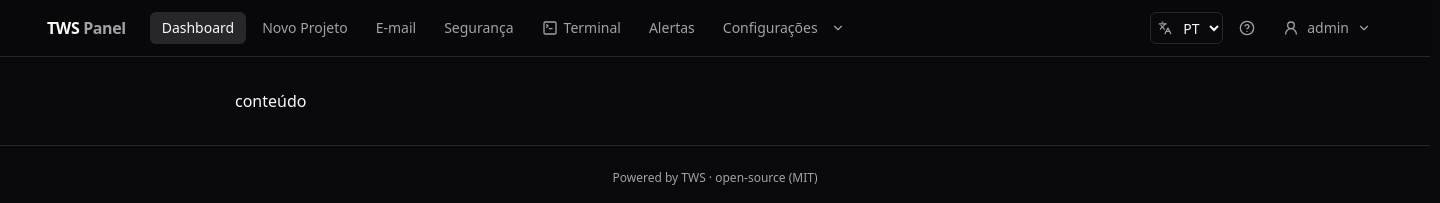
Test: seletor de idioma no cabeçalho › não fica dentro do menu do usuário (o painel dele não tem seletor de idioma)
What coordinates should you click on to do the following:
click the button with aria-label "Conta:"
I would click on:
 (1327, 28)
Its box is [1271,12,1383,44].
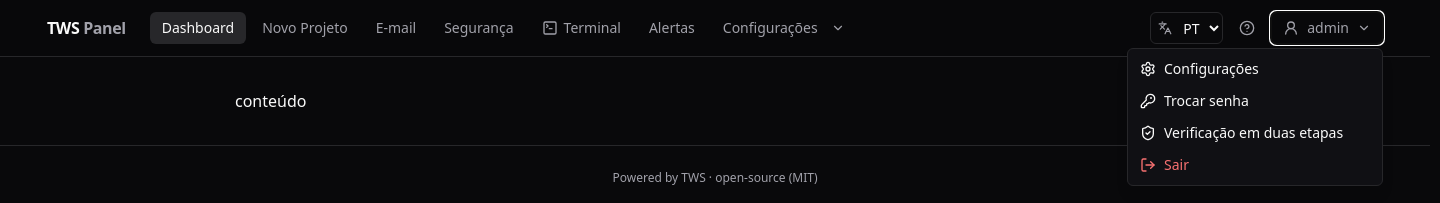
Expected: the number of dropdowns named "Idioma" is 1, [1150,12,1223,44]
Result: the button "Trocar senha" is shown at [1132,85,1378,117]
